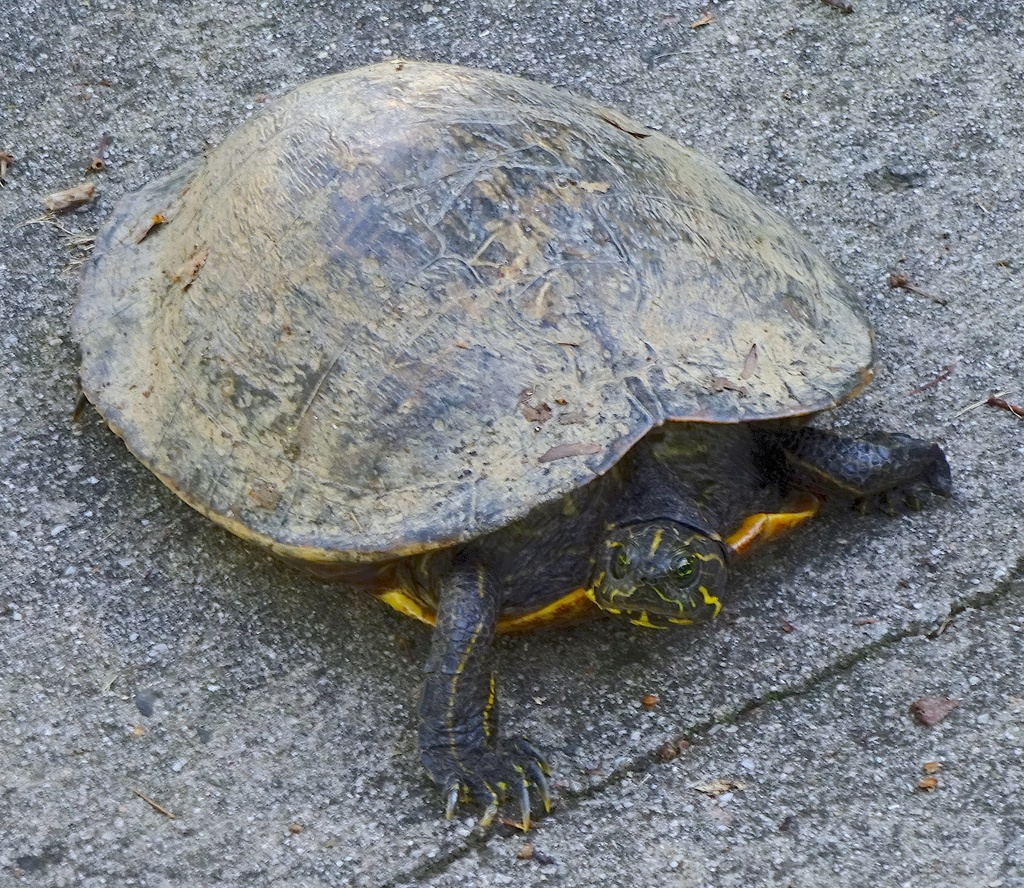person: (693, 0, 856, 23)
